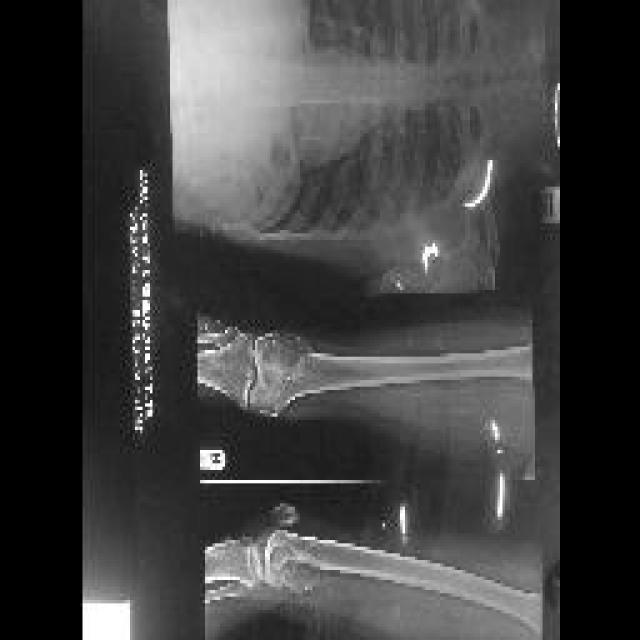bone-cancer: (254, 332, 318, 377), (275, 558, 321, 593)
